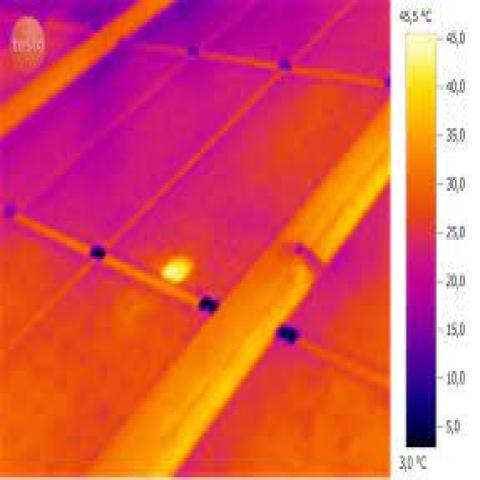fault: (159, 248, 196, 292)
